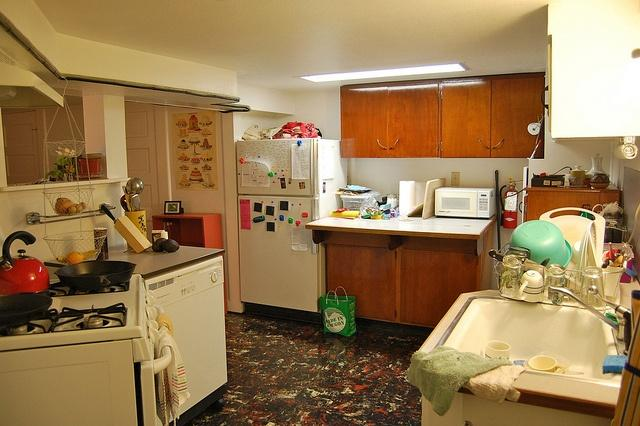Lemari: (338, 70, 546, 159)
